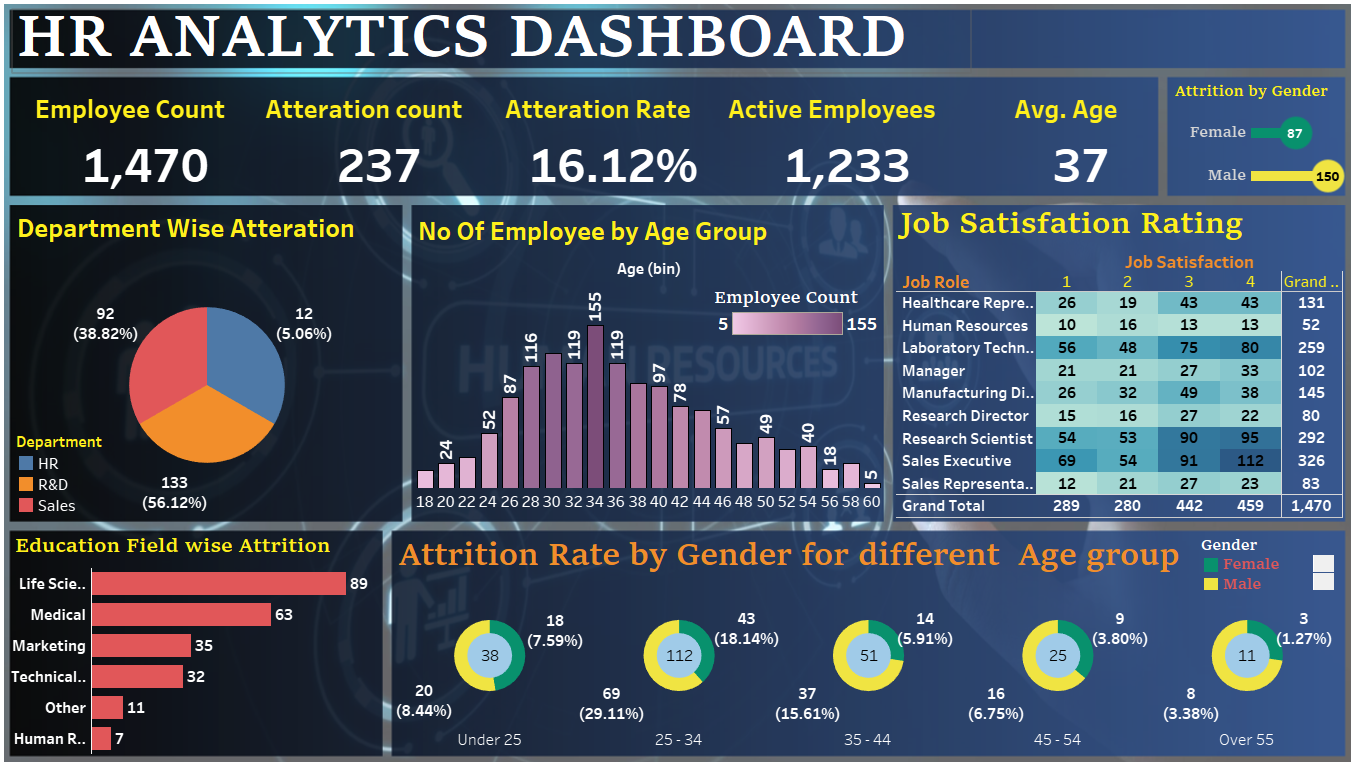

This screenshot's page, from the dashboard's own definition file:
{"tool":"tableau","page":{"name":"HR analytics Dashboard","canvas":[1000,1000],"units":"permille","ordinal":0},"visuals":[{"type":"text","box":[87.5,56.8,598.1,77.4]},{"type":"worksheet","title":"Attrition by Gender","mark":"Bar","rows":["Gender"],"cols":["Calculation_187462380345585666","Calculation_187462380345585666"],"box":[838.8,144.5,111.2,147.1]},{"type":"worksheet","title":"KPI","mark":"Automatic","box":[96.9,153.6,731.2,136.8]},{"type":"worksheet","title":"Department Wise Atteration","mark":"Pie","box":[103.8,313.6,251.9,415.5]},{"type":"worksheet","title":"Job Satisfation Rating ","mark":"Square","rows":["Job Role"],"cols":["Job Satisfaction"],"box":[671.2,313.6,280.6,415.5]},{"type":"worksheet","title":"No Of Employee by Age Group","mark":"Automatic","rows":["Employee Count"],"cols":["Age (bin)"],"box":[356.2,332.9,293.1,379.4]},{"type":"legend","title":"No Of Employee by Age Group","param":"[federated.069p4241lujju71ezvuvk08i4epp].[sum:Employee Count:qk]","box":[535,401.3,105,71]},{"type":"legend","title":"Department Wise Atteration","param":"[federated.069p4241lujju71ezvuvk08i4epp].[none:Department:nk]","box":[91.2,592.3,87.5,132.9]},{"type":"legend","title":"Attrition Rate by Gender for different  Age group","param":"[federated.069p4241lujju71ezvuvk08i4epp].[none:Gender:nk]","box":[846.7,777.8,84.5,74.9]}]}

Visuals, with their boxes on the dashboard's canvas, which has no fixed pixel size, in thousandths of its width and height (x1, y1, x2, y2). These are canvas units, not pixel positions in the 1352x763 screenshot, which may show the page scaled, cropped or inside an application window:
text: [left=88, top=57, right=686, bottom=134]
"Attrition by Gender" worksheet (Bar marks): [left=839, top=144, right=950, bottom=292]
"KPI" worksheet: [left=97, top=154, right=828, bottom=290]
"Department Wise Atteration" worksheet (Pie marks): [left=104, top=314, right=356, bottom=729]
"Job Satisfation Rating " worksheet (Square marks): [left=671, top=314, right=952, bottom=729]
"No Of Employee by Age Group" worksheet: [left=356, top=333, right=649, bottom=712]
"No Of Employee by Age Group" legend: [left=535, top=401, right=640, bottom=472]
"Department Wise Atteration" legend: [left=91, top=592, right=179, bottom=725]
"Attrition Rate by Gender for different  Age group" legend: [left=847, top=778, right=931, bottom=853]
